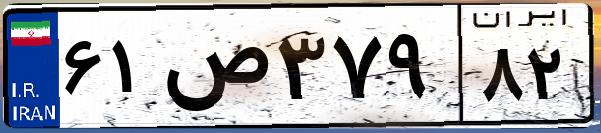1: (110, 28, 158, 98)
2: (525, 38, 570, 115)
3: (270, 28, 330, 110)
6: (57, 26, 110, 100)
7: (330, 28, 385, 110)
8: (475, 38, 525, 113)
9: (385, 28, 445, 110)
ص: (158, 20, 270, 120)
